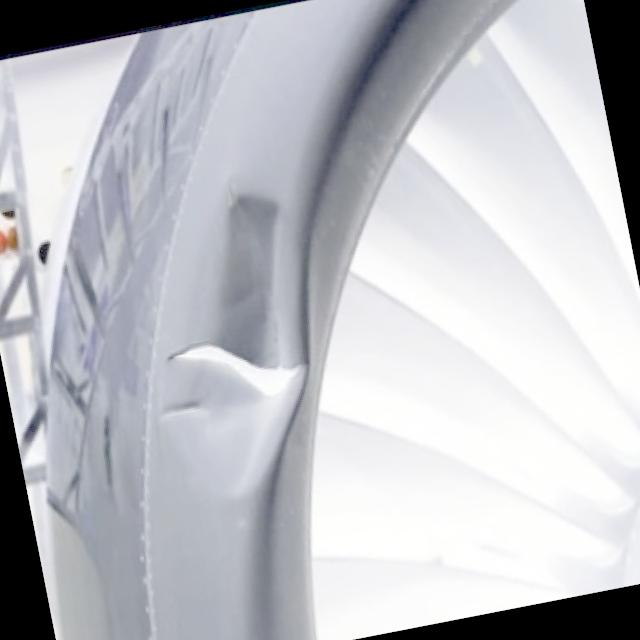crack: (150, 316, 326, 432)
